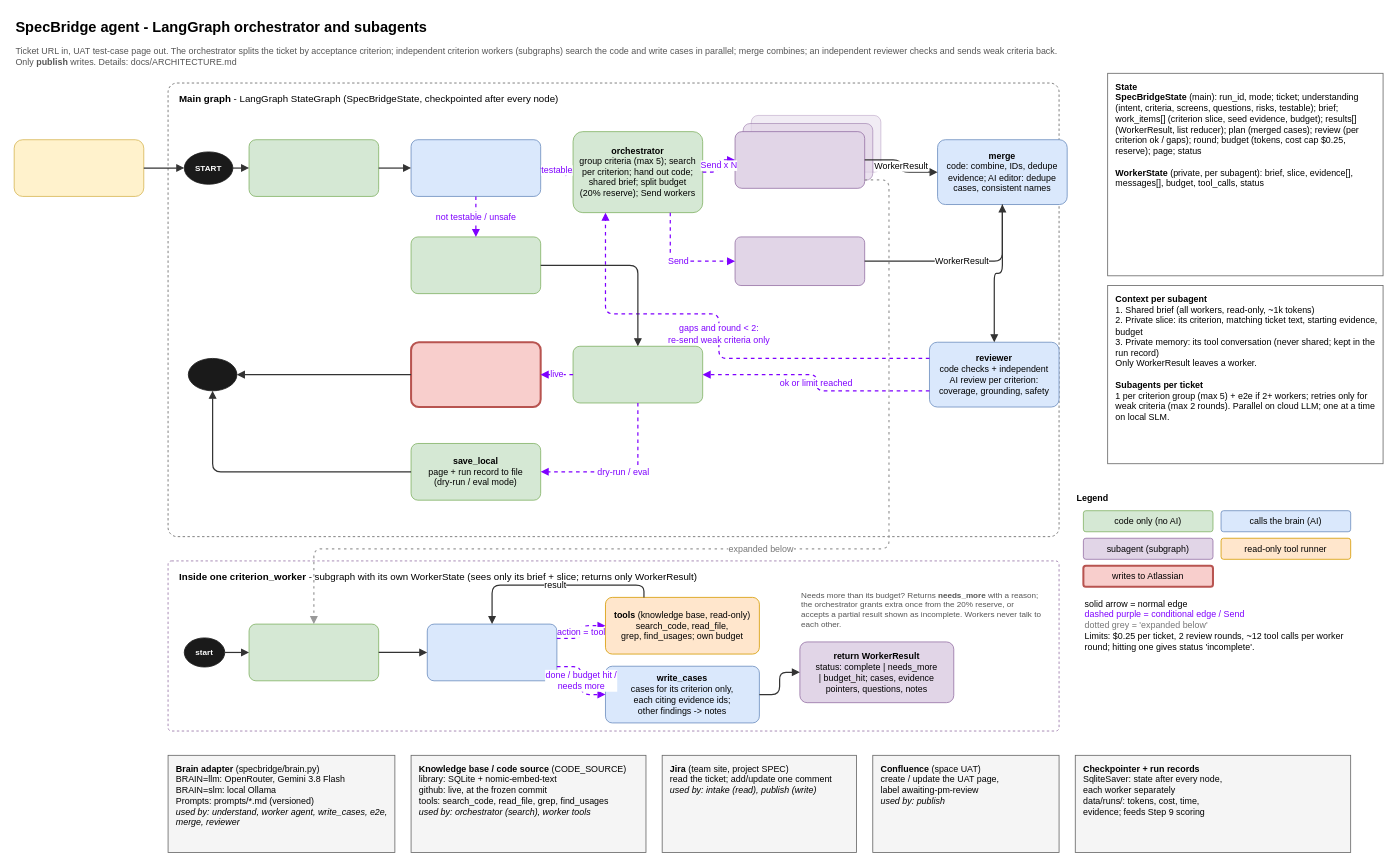
Image size: 1397x867. Some labels were removed from this diagram. The shapes that lost their labels are listed below. From the top down, each one's centre as x and y in pixels, then its label:
At (78,167): "Ticket URL from CLI or the local Run page".
At (313,167): "intake team Jira only; fetch + clean; flag injection text".
At (475,167): "understand intent, acceptance criteria, screens, questions, risks".
At (799,159): "criterion_worker x N (subgraph, parallel) search + write cases for one criterion".
At (475,265): "clarify needs-clarification result: questions, no test cases".
At (799,261): "e2e_worker (subgraph) flows that span criteria (only if 2+ workers)".
At (212,374): "END".
At (475,374): "publish upsert page in UAT, comment on ticket; never overwrite PM edits".
At (637,374): "render page grouped by criterion + ticket comment text".
At (313,652): "receive_slice shared brief + its criterion + starting evidence + budget".
At (491,652): "agent choose next read-only tool or done (JSON action)".
